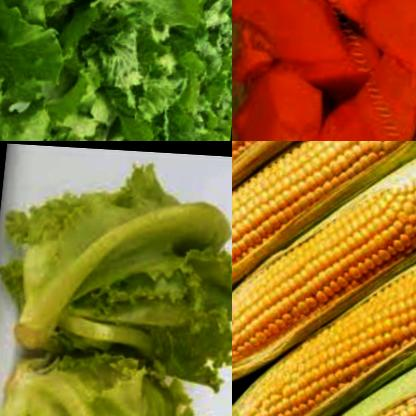corn: (232, 141, 416, 394), (232, 214, 416, 416), (232, 141, 416, 311), (266, 328, 416, 416), (232, 141, 390, 218)
pumpkin: (232, 0, 361, 67), (238, 63, 337, 141), (353, 50, 416, 141), (356, 0, 416, 84), (309, 92, 398, 141)
salad: (0, 145, 232, 395), (0, 0, 232, 141), (0, 351, 232, 416)
